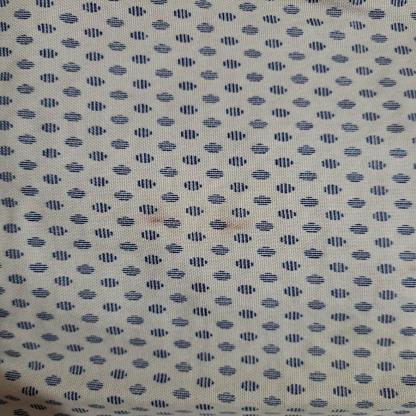spot: (194, 207, 255, 233), (138, 209, 171, 224)
